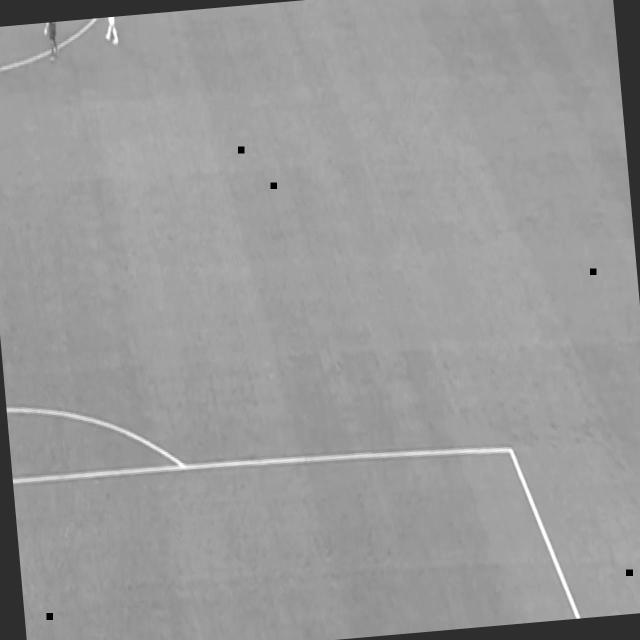player-white: (43, 22, 63, 64), (103, 16, 121, 46)
